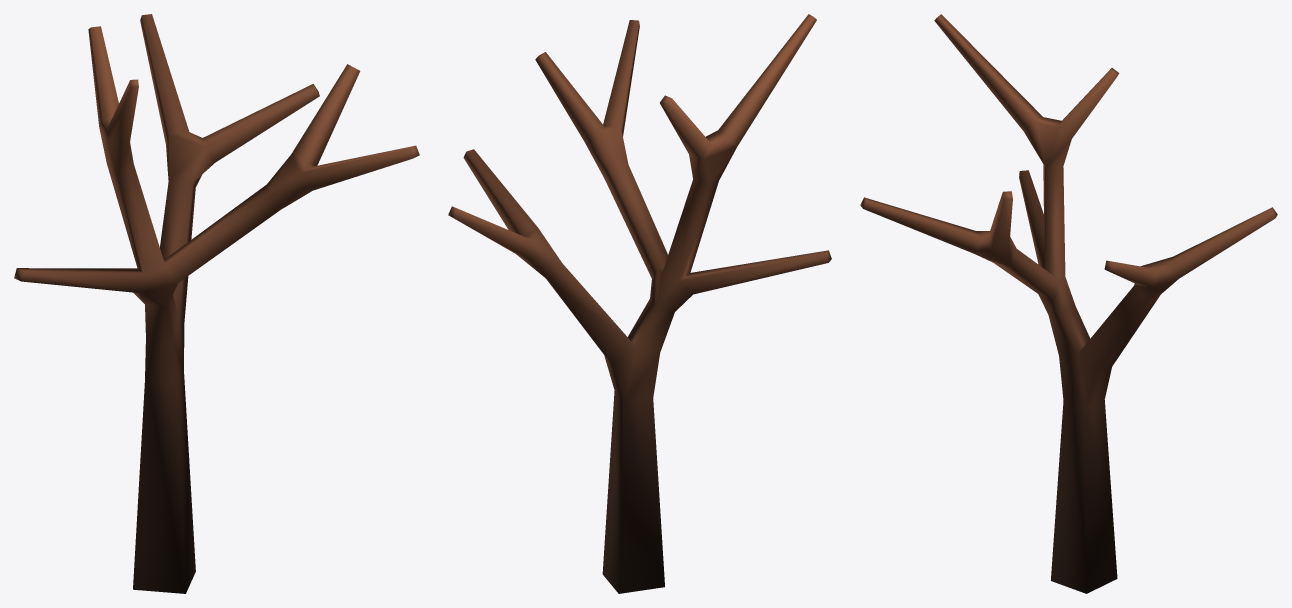
Rendered from tree01.fbx.
3 renders of one model, left to right at view 1: azimuth 30°, elevation 25°; view 2: azimuth 150°, elevation 25°; view 3: azimuth 270°, elevation 25°, orthographic. The views are drawn at different scales.
Parts seen in each view (by area): view 1: TreeO2; view 2: TreeO2; view 3: TreeO2.
Boxes of the visible parts, box(x1,y1,x2,y2) form: TreeO2: box(14, 14, 419, 593); TreeO2: box(448, 14, 831, 593); TreeO2: box(860, 14, 1277, 593).
Bounding box in the file's own units: 448 × 714 × 523.
